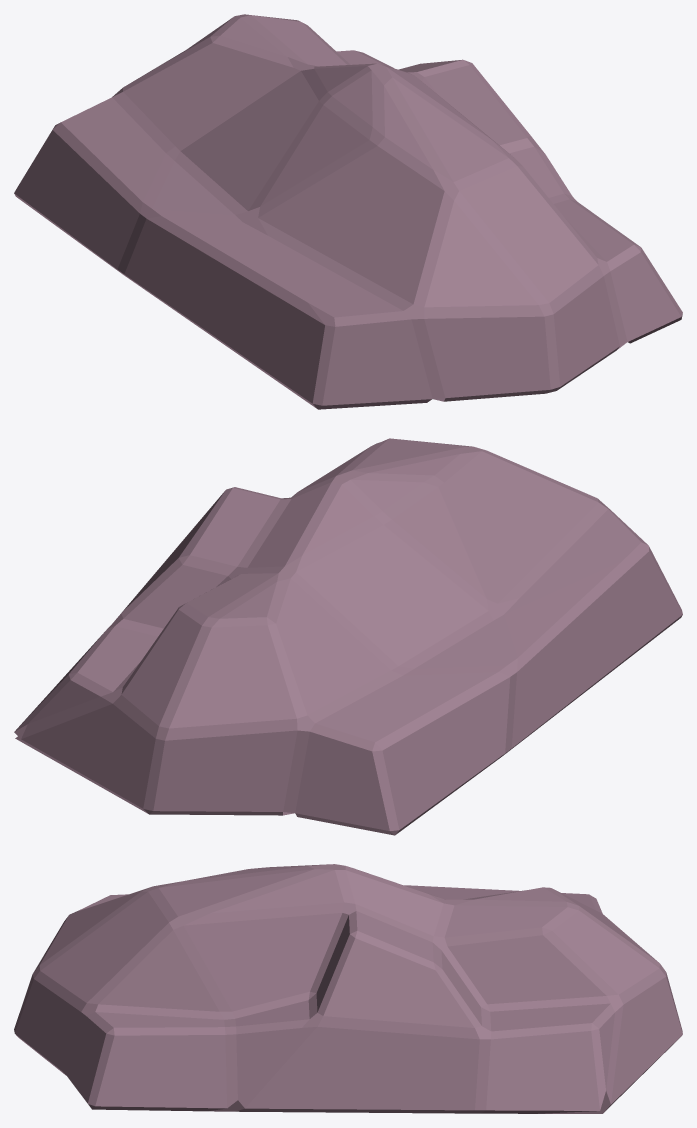
The model's file is Factory_Rock_1.fbx.
The picture shows the model from 3 angles, top to bottom: view 1: azimuth 30°, elevation 25°; view 2: azimuth 150°, elevation 25°; view 3: azimuth 270°, elevation 25°; orthographic projection. The views are drawn at different scales.
Parts seen in each view (by area): view 1: Factory Rock 1; view 2: Factory Rock 1; view 3: Factory Rock 1.
Boxes of the visible parts, x1=… form: Factory Rock 1: x1=14, y1=14, x2=682, y2=409; Factory Rock 1: x1=14, y1=438, x2=682, y2=835; Factory Rock 1: x1=14, y1=864, x2=682, y2=1113.
Size of the model in its own units: 3105 by 1466 by 5192.
